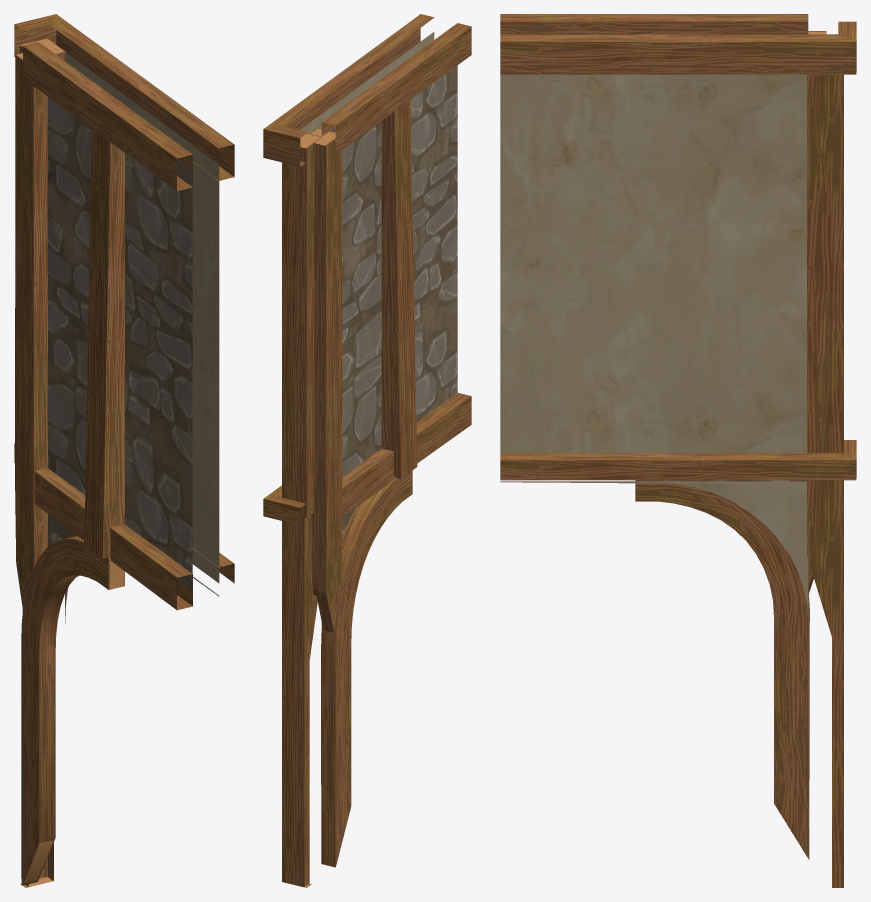
File: Overhang_Side_UnevenBrick_Long_L.glb
The picture shows the model from 3 angles, left to right: view 1: azimuth 30°, elevation 25°; view 2: azimuth 150°, elevation 25°; view 3: azimuth 270°, elevation 25°; orthographic projection. The views are drawn at different scales.
Parts seen in each view (by area): view 1: Overhang_Side_UnevenBrick_Long_L; view 2: Overhang_Side_UnevenBrick_Long_L; view 3: Overhang_Side_UnevenBrick_Long_L.
Part boxes in pixels (x1,y1,x2,y2): Overhang_Side_UnevenBrick_Long_L: (14,14,234,887); Overhang_Side_UnevenBrick_Long_L: (263,14,471,887); Overhang_Side_UnevenBrick_Long_L: (500,14,856,887).
Bounding box in the file's own units: 0.4794 × 6.12 × 2.31.
Materials: 3 (3 with a texture image).
